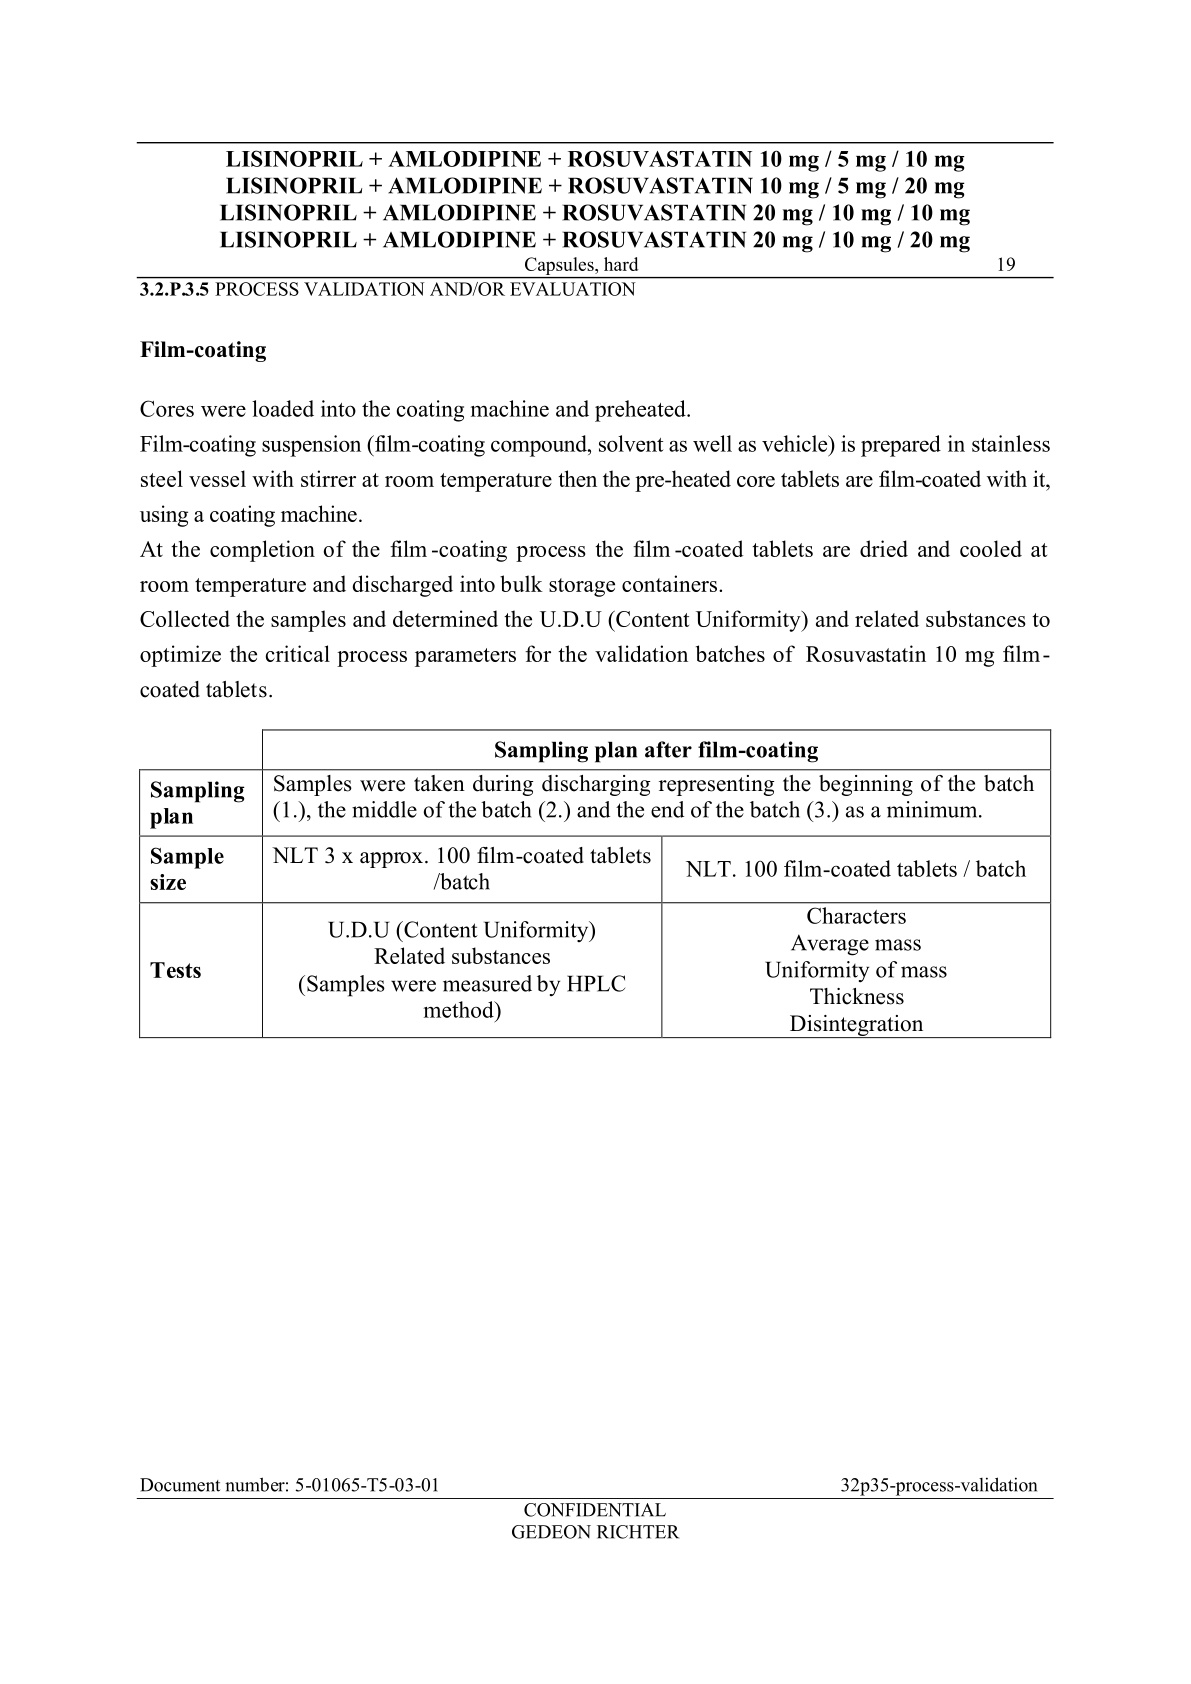merged_cells: (139, 727, 1053, 1040)
